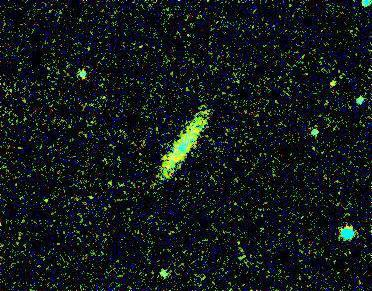star: (320, 64, 350, 94)
